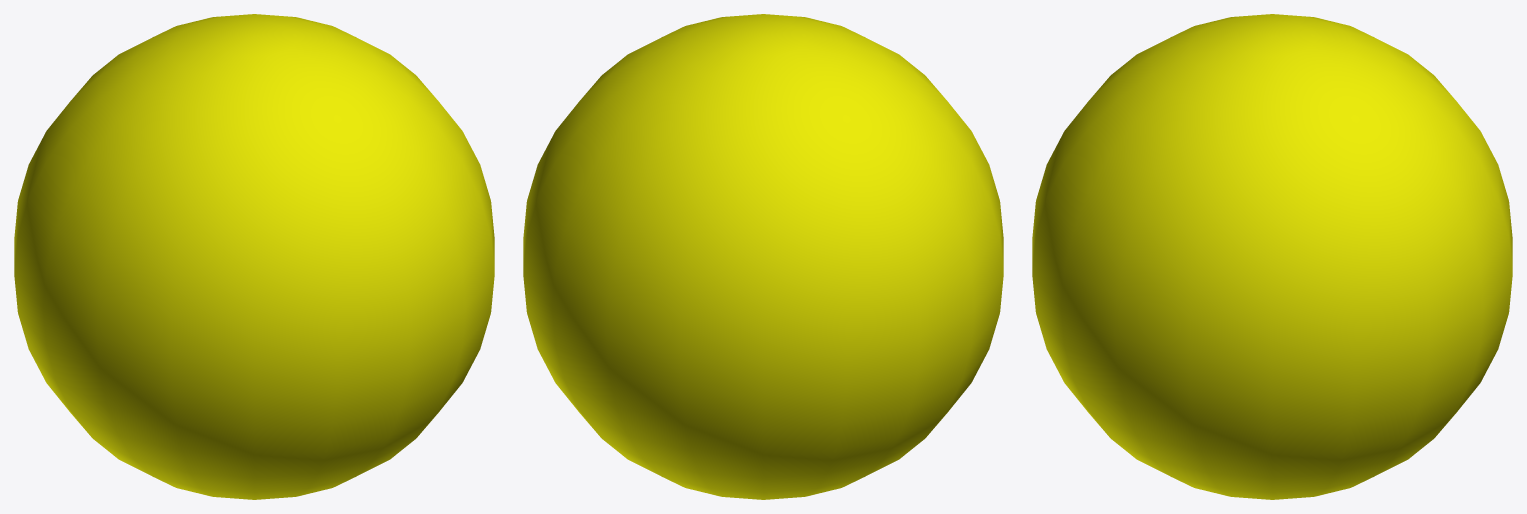
Rendered from beachBall.fbx.
3 renders of one model, left to right at view 1: azimuth 30°, elevation 25°; view 2: azimuth 150°, elevation 25°; view 3: azimuth 270°, elevation 25°, orthographic.
Visible parts, largest first — view 1: volly_ball_Outline4; view 2: volly_ball_Outline4; view 3: volly_ball_Outline4.
Boxes of the visible parts, left/top/right/bottom form: volly_ball_Outline4: left=14, top=14, right=494, bottom=499; volly_ball_Outline4: left=523, top=14, right=1003, bottom=499; volly_ball_Outline4: left=1032, top=14, right=1512, bottom=499.
Bounding box in the file's own units: 146 × 146 × 143.
